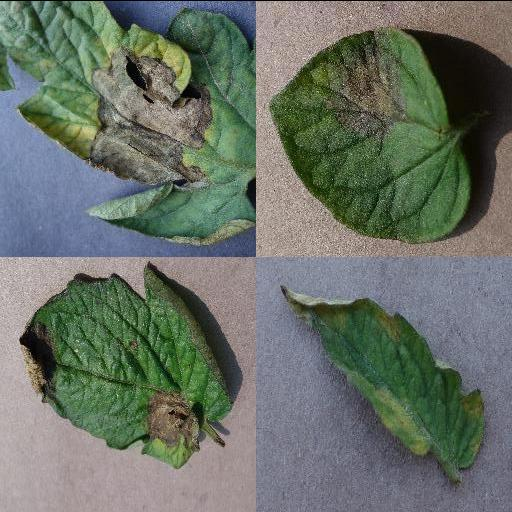Late Blight: (0, 0, 256, 248), (18, 263, 234, 469), (270, 25, 472, 243)
Leaf Mold: (279, 283, 487, 466)
